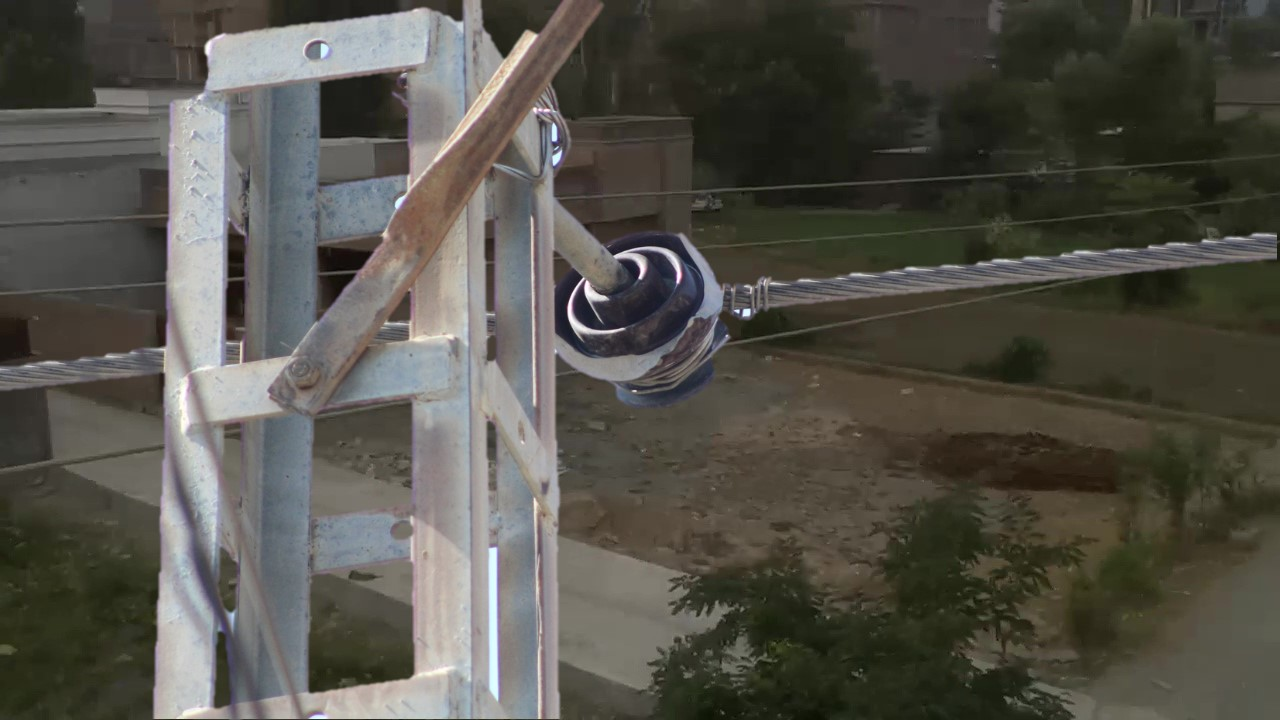defect_pin: (558, 224, 739, 412)
